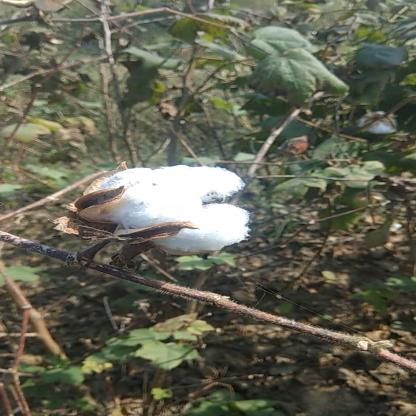cotton_ready: (38, 142, 269, 270)
